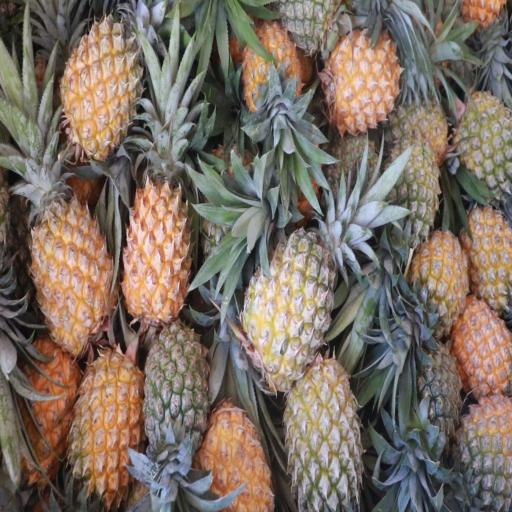------------------------------: (245, 238, 332, 383), (289, 359, 363, 512)
Pineapple - v8 v1: (35, 176, 110, 344), (71, 353, 144, 499), (63, 14, 139, 148), (124, 174, 191, 323), (15, 340, 80, 478), (202, 399, 273, 512), (327, 32, 398, 128), (240, 28, 302, 124), (457, 303, 512, 399), (414, 233, 466, 329), (466, 208, 511, 304)
